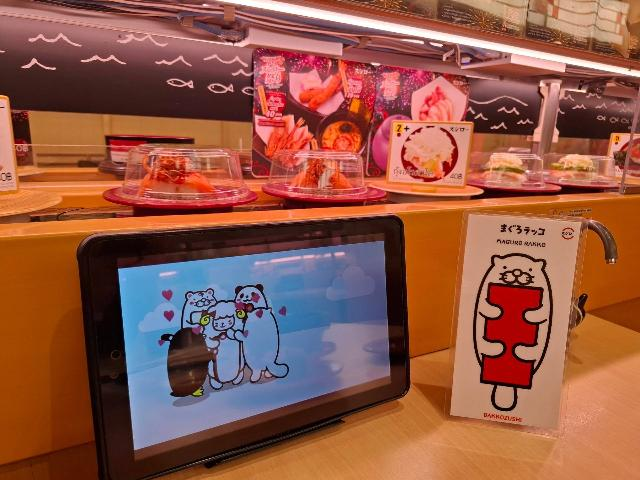janred: (90, 179, 273, 223), (462, 172, 573, 214), (265, 184, 398, 217), (552, 162, 624, 200)
